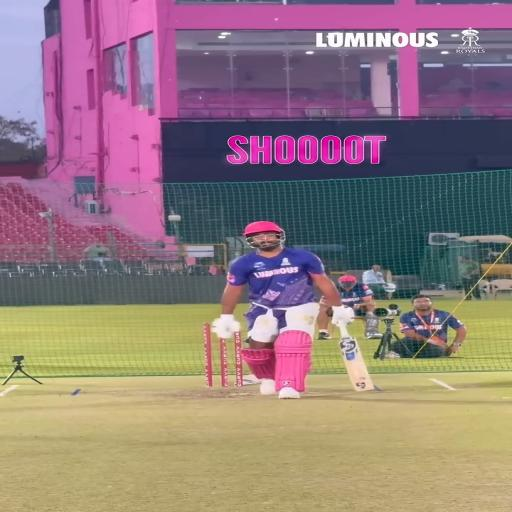Cricket bat: (338, 325, 375, 391)
